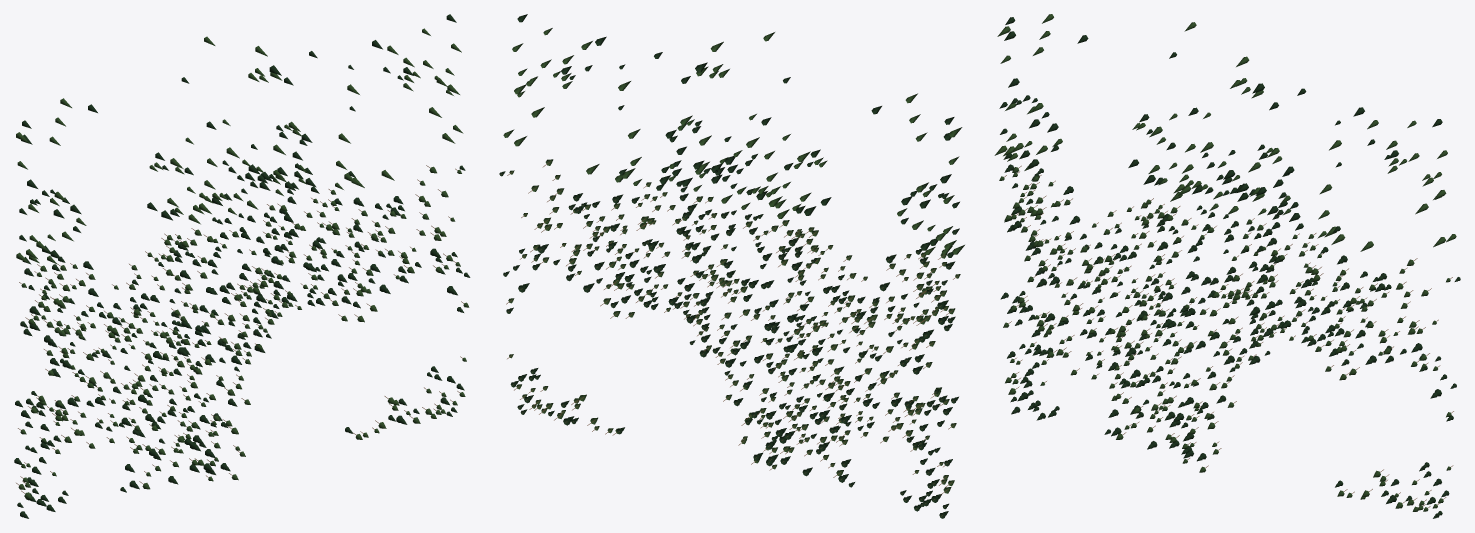
File: forest_11.obj
3 views of the same model, side by side, from view 1: azimuth 30°, elevation 25°; view 2: azimuth 150°, elevation 25°; view 3: azimuth 330°, elevation 25° (orthographic).
Bounding box in the file's own units: 553 × 513 × 45.37.
